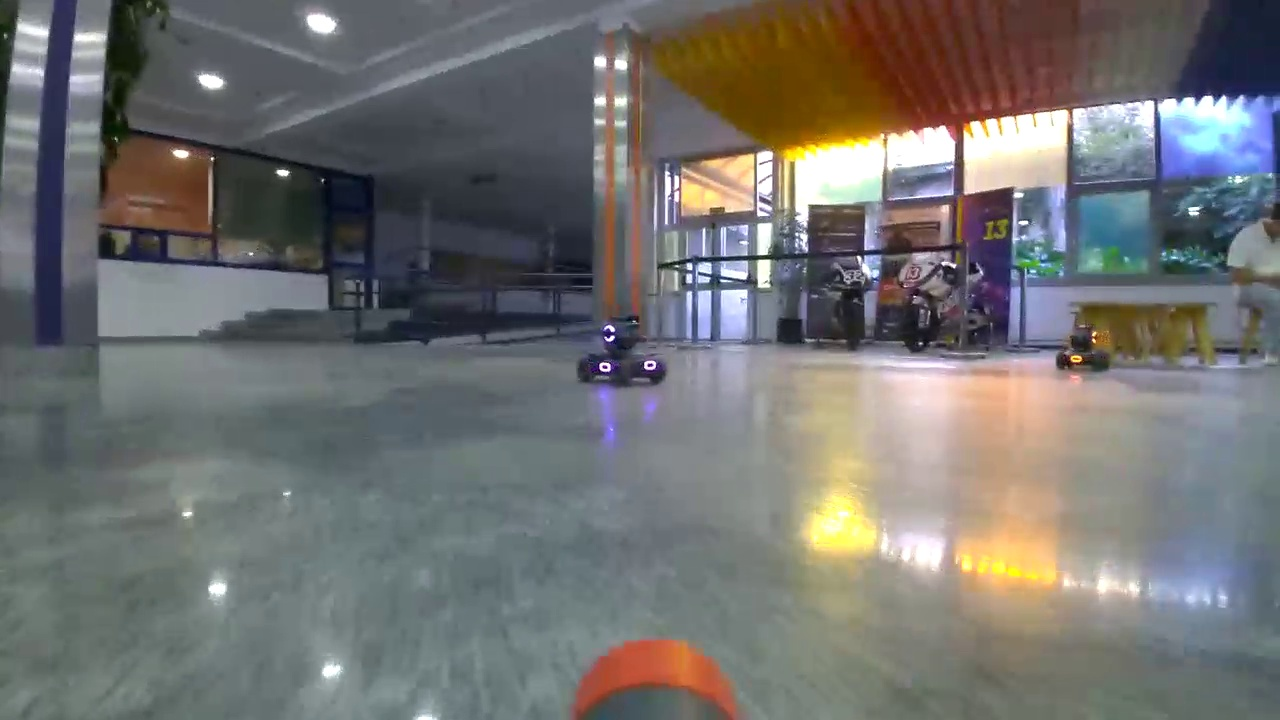robot: (577, 315, 668, 386), (1055, 315, 1112, 371)
